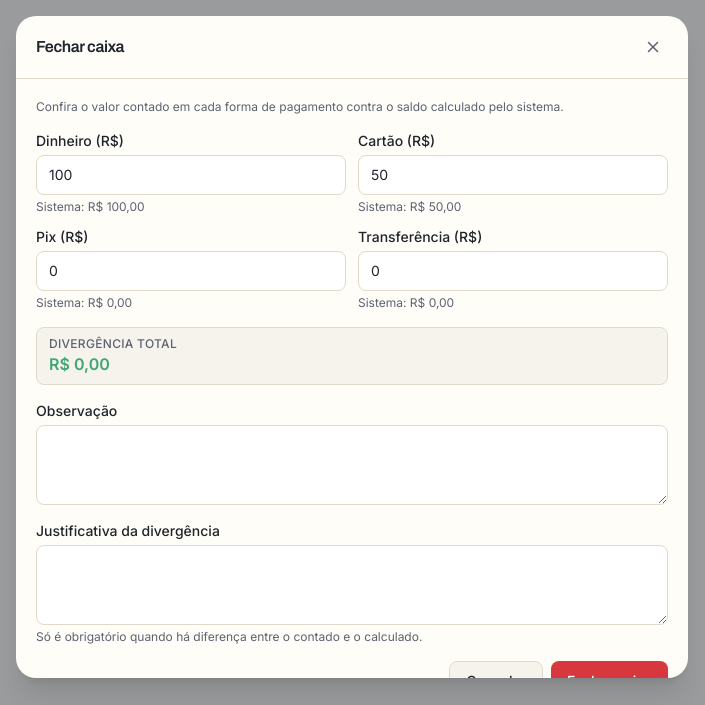
FecharCaixaModal › bloqueia o envio e pede justificativa quando o valor contado diverge do calculado
Replace the text in the number field labelled "Dinheiro (R$)" with "80" at (191, 175), box [36,155,346,195]
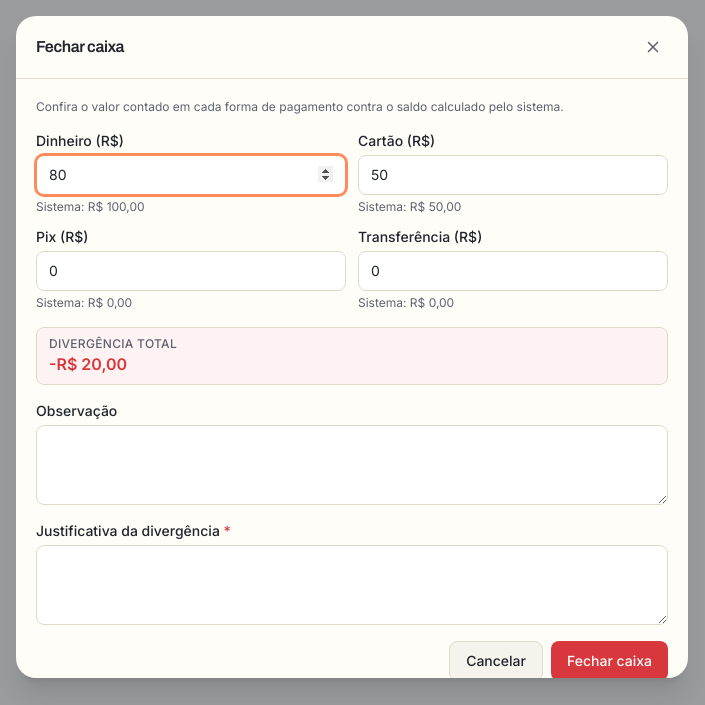
Click the button "Fechar caixa" at (610, 661), box [551,641,668,681]
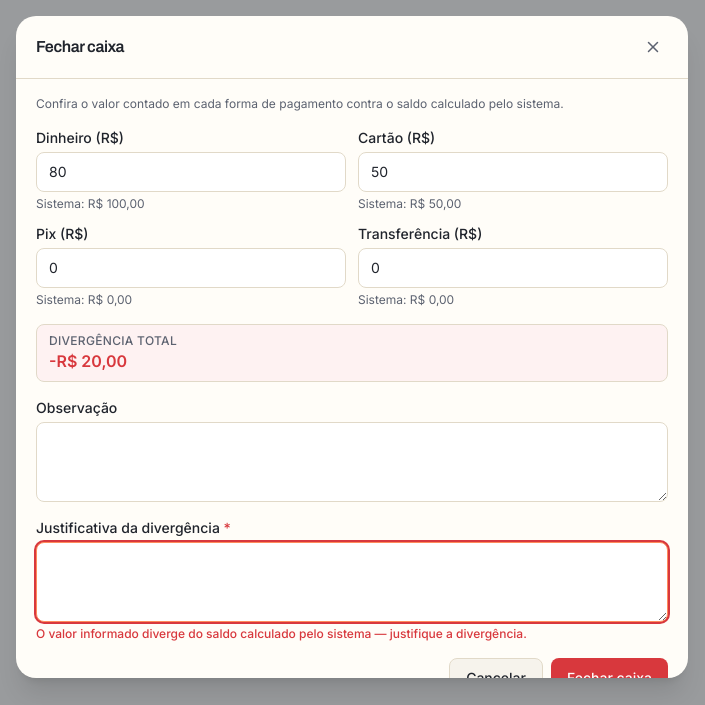
Expected: the text "O valor informado diverge do saldo calculado pelo sistema — justifique a divergência." is shown, [36,626,527,641]
